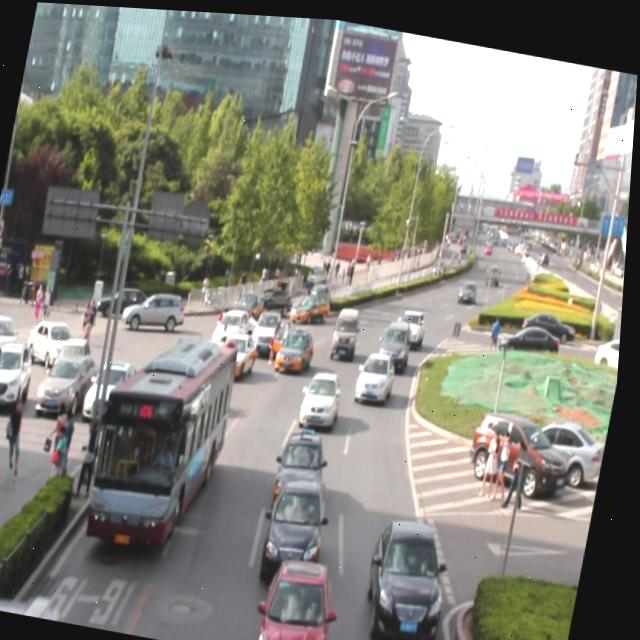car: (367, 507, 461, 640), (260, 549, 346, 640), (267, 469, 340, 576), (277, 420, 337, 509), (302, 362, 348, 426), (356, 341, 402, 401), (176, 326, 221, 385), (219, 321, 269, 373), (279, 312, 325, 367), (251, 297, 292, 353), (379, 311, 418, 367), (214, 302, 255, 353), (296, 276, 341, 320), (395, 299, 431, 344)
truck: (331, 298, 367, 356)
van: (89, 321, 245, 547)
